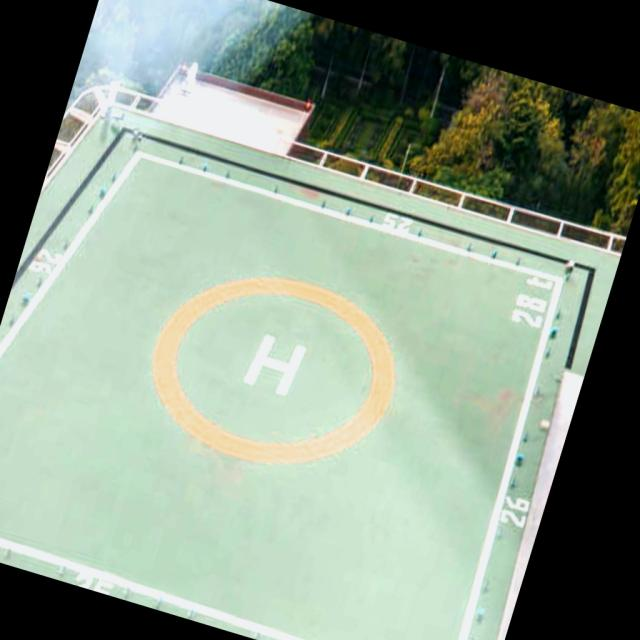helipad: (140, 264, 398, 472)
